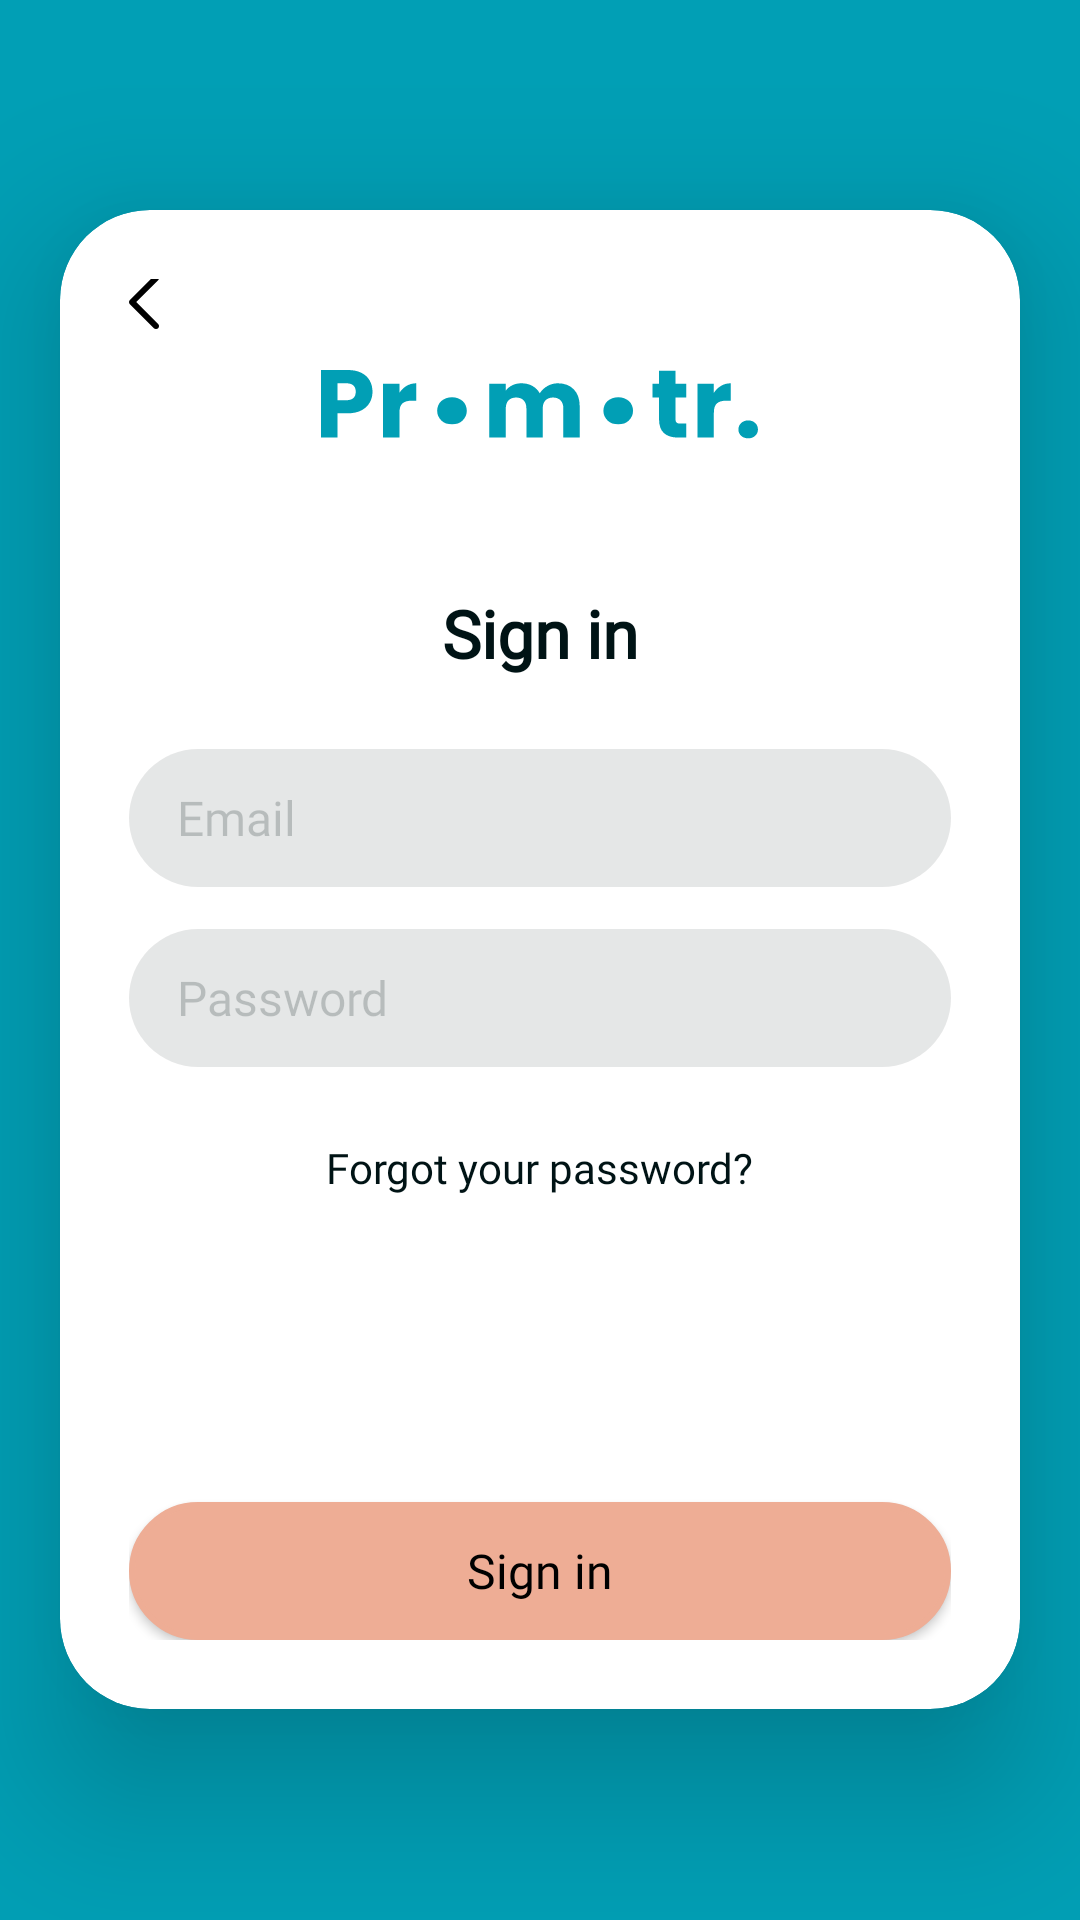

Where to tap for icons on this 1080px×1920px app screen, as (x=x, y=y):
back arrow: (x=144, y=304)
